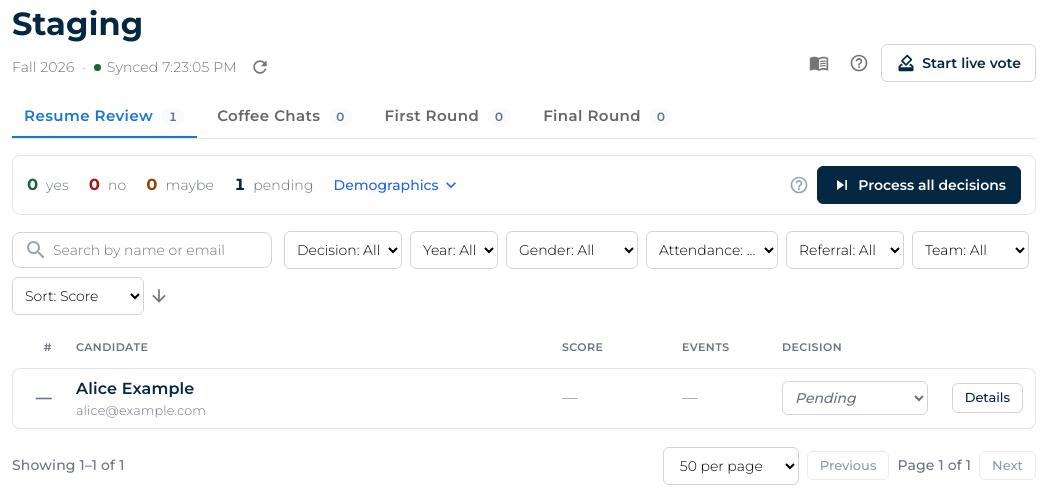
Test case: Staging sync › applies a snapshot the database read after the one already applied
Expected: the text "Alice Example" is shown, x1=76 y1=376 x2=206 y2=400
Click the button named "Refresh staging data".
click(260, 67)  # box x1=245 y1=52 x2=275 y2=82
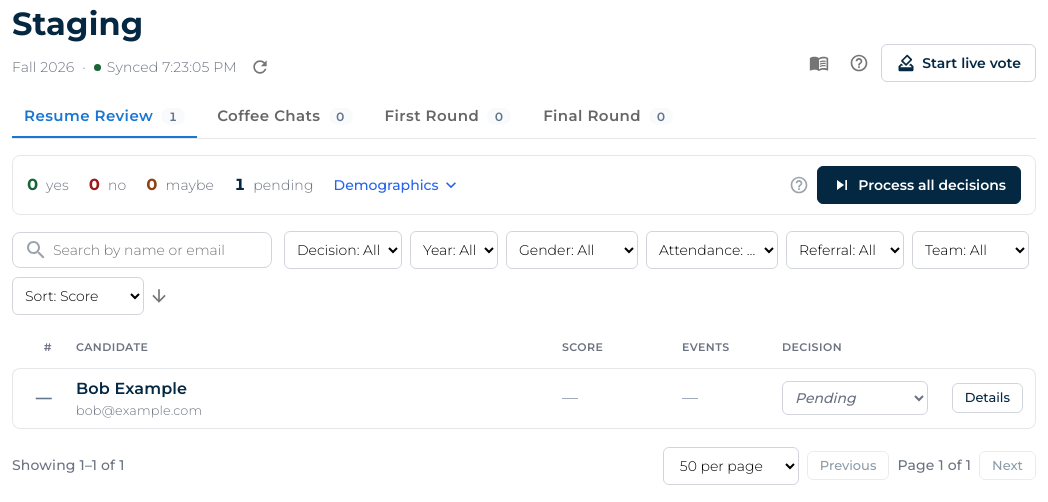
Expected: the text "Bob Example" is shown, x1=76 y1=376 x2=202 y2=400
Expected: the text "Alice Example" is gone
